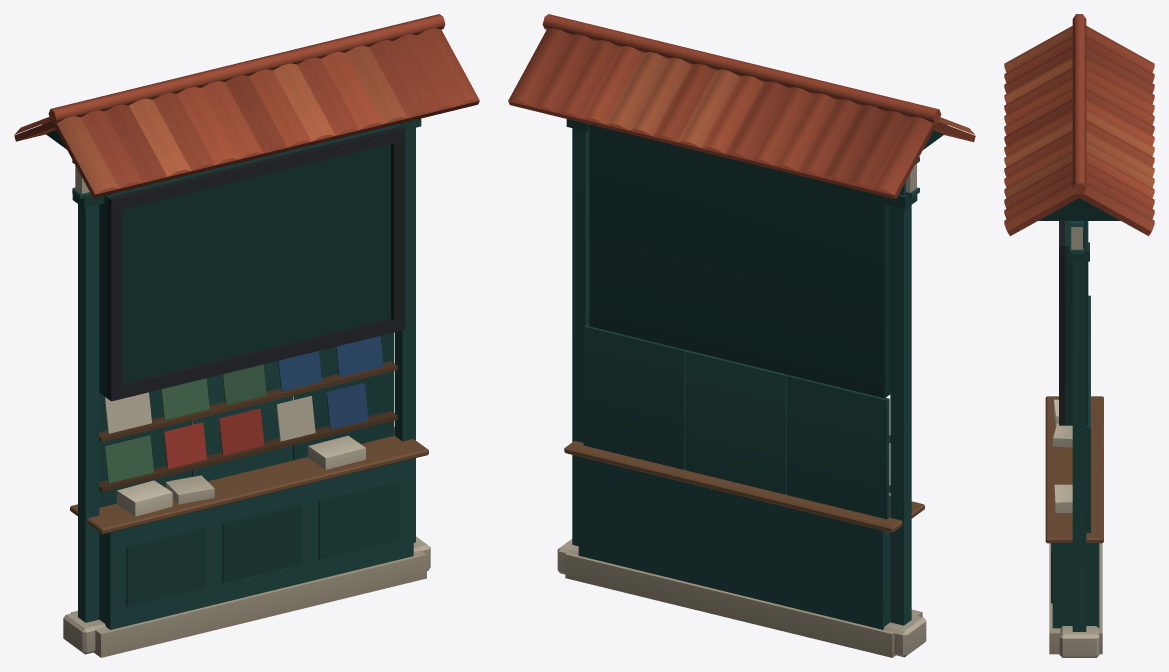
File: plaza-terminal.glb
3 renders of one model, left to right at view 1: azimuth 30°, elevation 25°; view 2: azimuth 150°, elevation 25°; view 3: azimuth 270°, elevation 25°, orthographic. The views are drawn at different scales.
Visible parts, largest first — view 1: terminal; view 2: terminal; view 3: terminal.
Part boxes in pixels (x1,y1,x2,y2): terminal: (14, 14, 479, 657); terminal: (508, 14, 975, 657); terminal: (1004, 14, 1154, 657).
Size of the model in its own units: 3.44 by 4.59 by 1.29.
